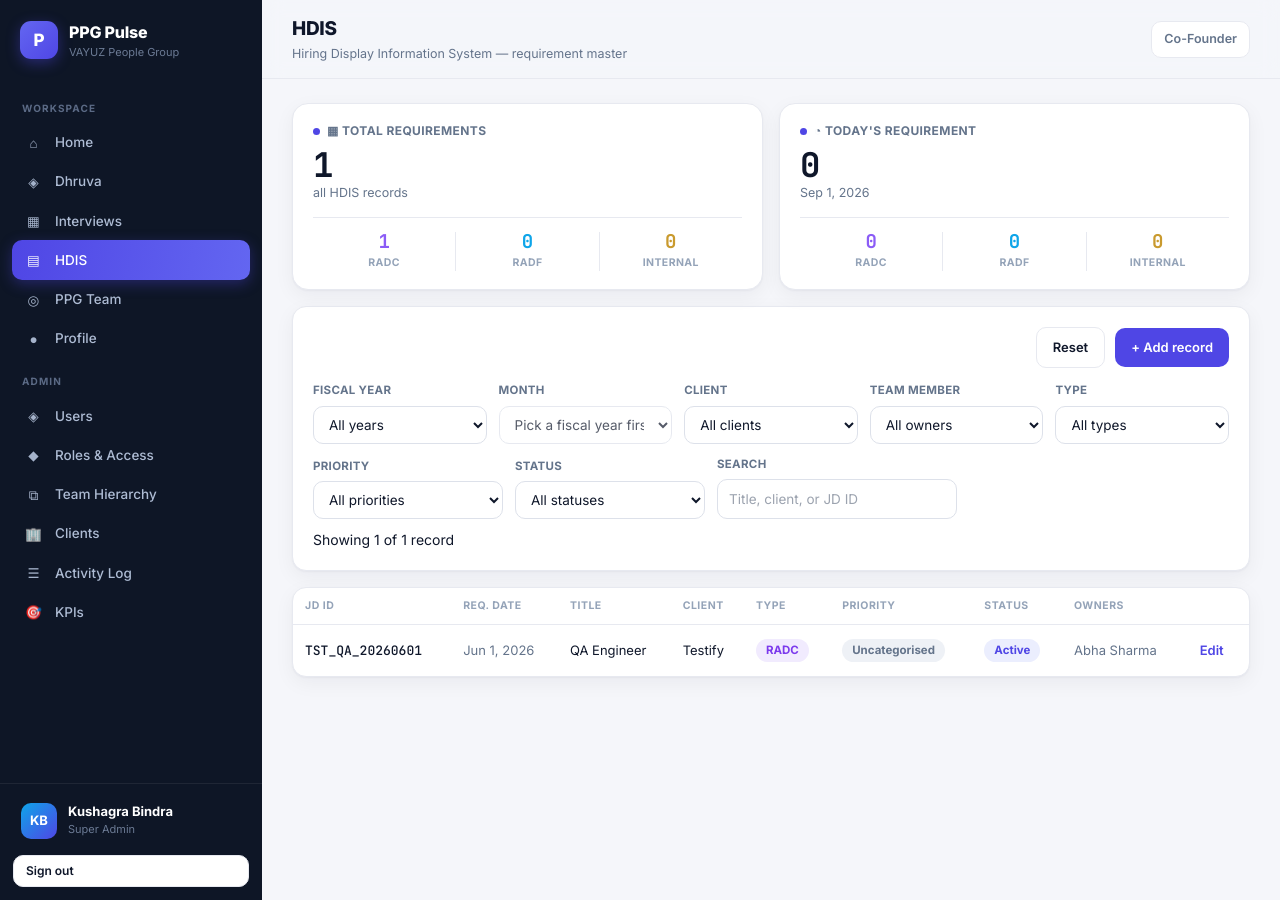
HDIS status reason + remarks › offers Fulfilled as a status with its own reason options
Expected: the text "QA Engineer" is shown, [558,624,671,676]
Click the button "Edit" at (1212, 651), box [1194,637,1230,664]
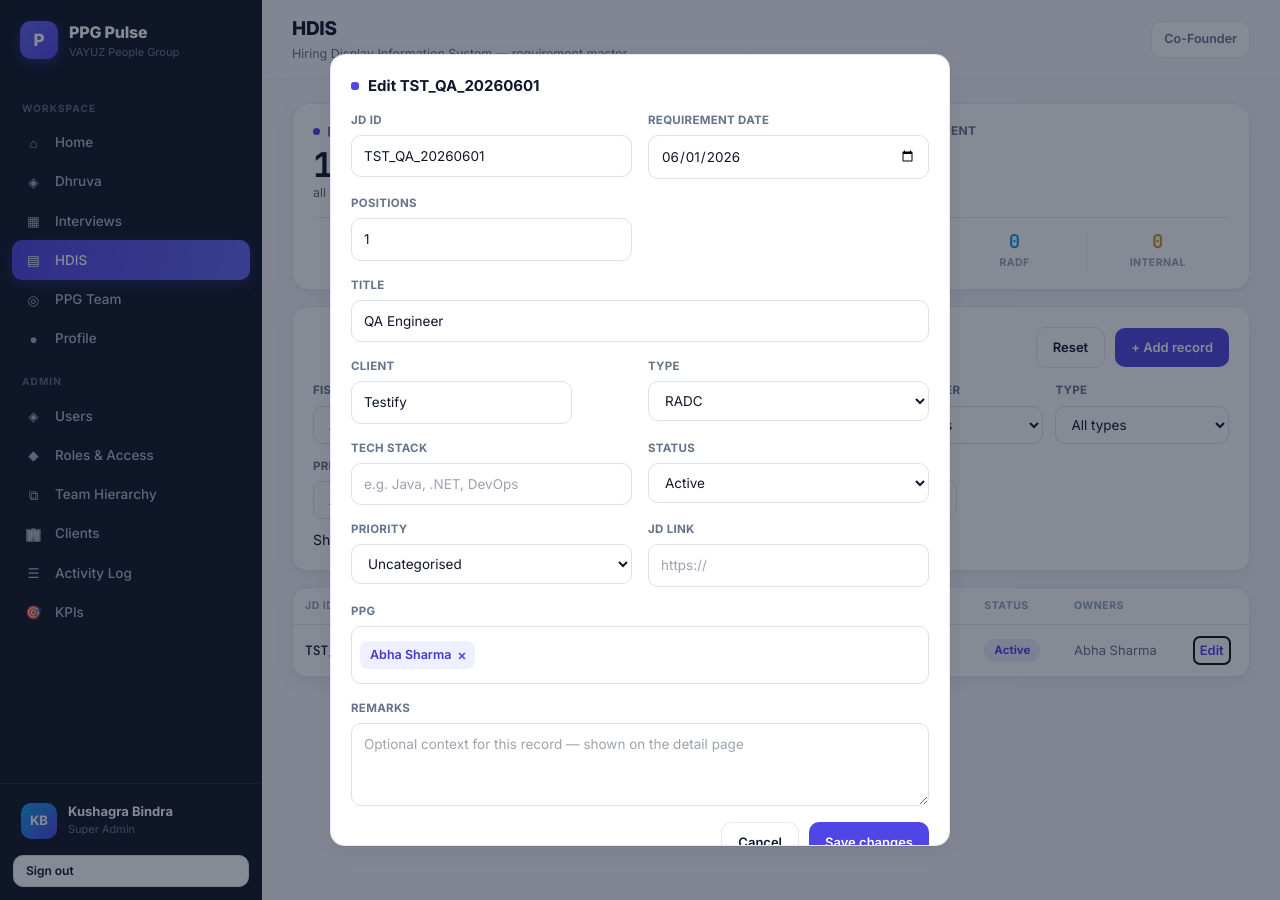
Select "Fulfilled" in the dropdown labelled "Status" at (788, 483), box [648,463,929,503]
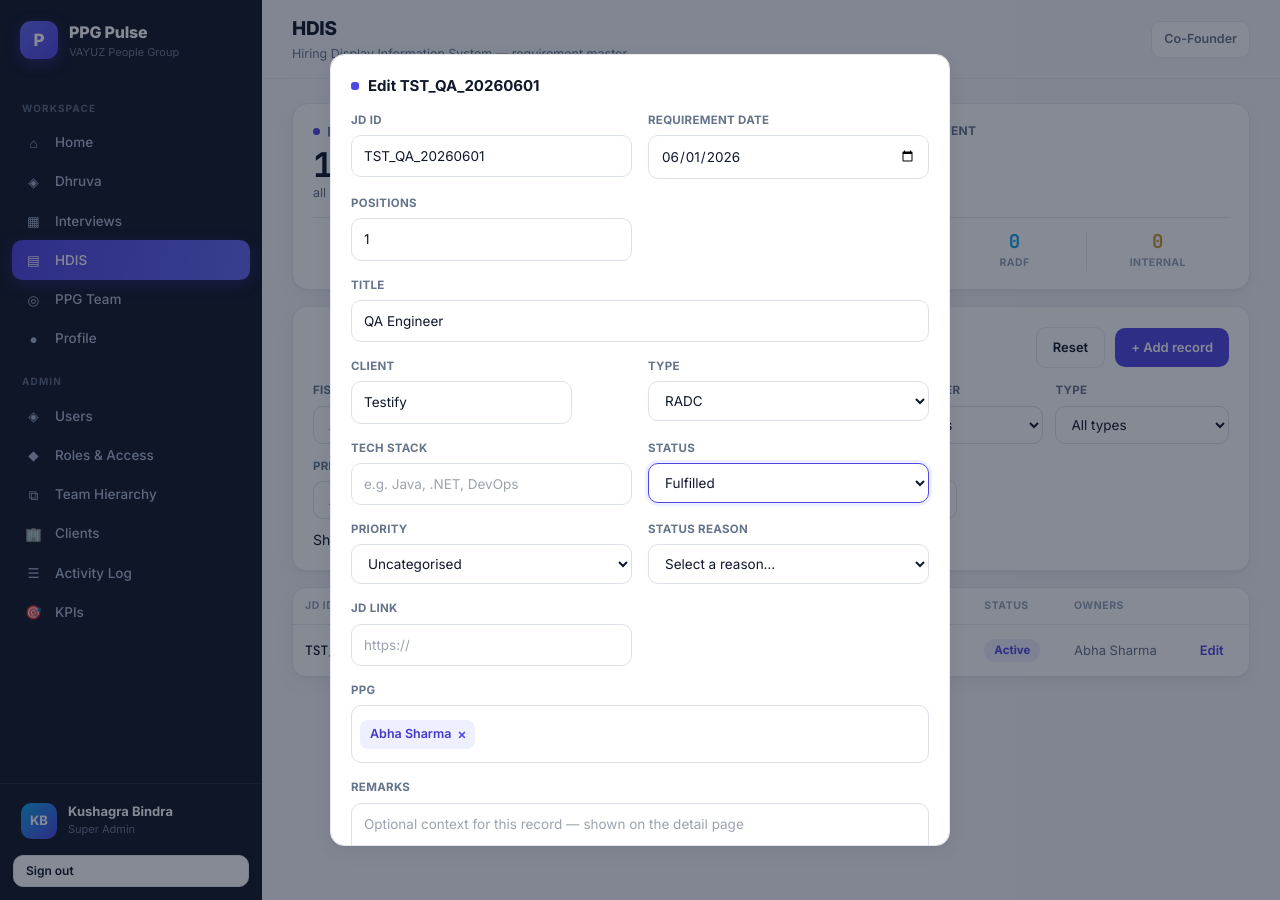
Result: the text "Status reason" is shown at [648,522,748,536]
